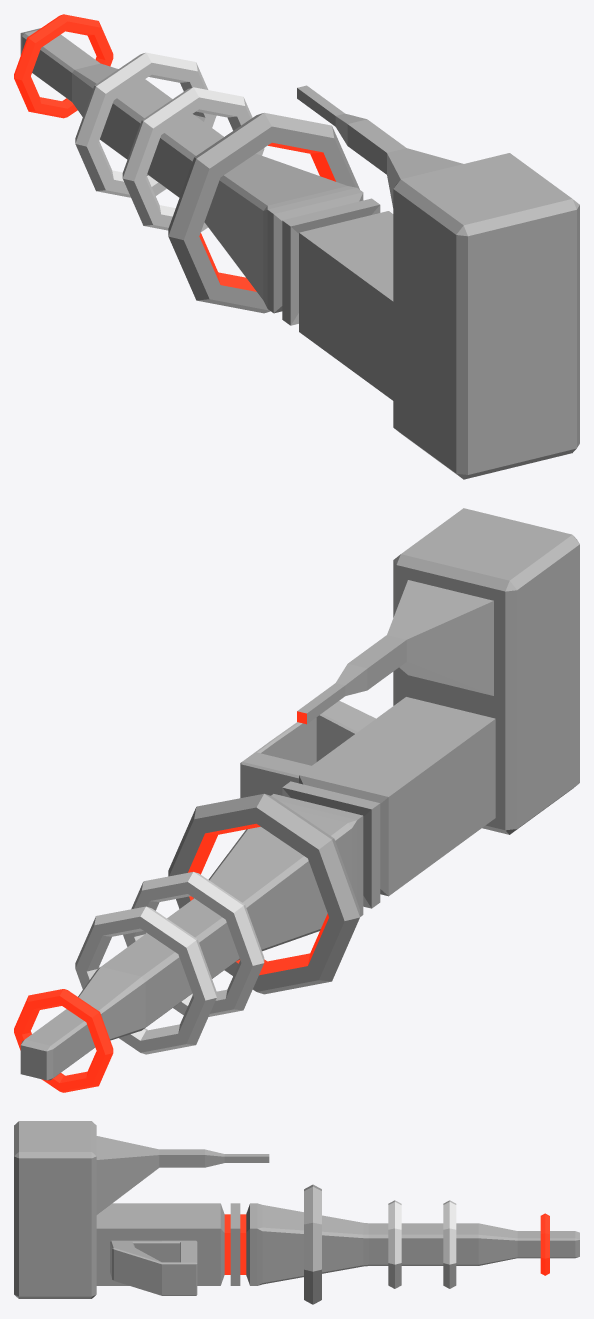
Rendered from ChaosGun.fbx.
The picture shows the model from 3 angles, top to bottom: view 1: azimuth 30°, elevation 25°; view 2: azimuth 150°, elevation 25°; view 3: azimuth 270°, elevation 25°; orthographic projection. The views are drawn at different scales.
Parts seen in each view (by area): view 1: Cube, Torus, Torus.002, Torus.001, Torus.003; view 2: Cube, Torus, Torus.002, Torus.001, Torus.003; view 3: Cube, Torus, Torus.001, Torus.002, Torus.003.
Part boxes in pixels (x1=…): Cube: x1=20, y1=28, x2=579, y2=479; Torus: x1=168, y1=112, x2=359, y2=313; Torus.002: x1=75, y1=52, x2=216, y2=197; Torus.001: x1=122, y1=87, x2=264, y2=231; Torus.003: x1=14, y1=14, x2=113, y2=118; Cube: x1=20, y1=508, x2=579, y2=1080; Torus: x1=168, y1=793, x2=359, y2=994; Torus.002: x1=75, y1=906, x2=216, y2=1054; Torus.001: x1=123, y1=872, x2=264, y2=1016; Torus.003: x1=14, y1=989, x2=113, y2=1092; Cube: x1=14, y1=1121, x2=579, y2=1298; Torus: x1=304, y1=1184, x2=321, y2=1304; Torus.001: x1=388, y1=1200, x2=401, y2=1288; Torus.002: x1=443, y1=1200, x2=456, y2=1288; Torus.003: x1=540, y1=1213, x2=549, y2=1275.
Bounding box in the file's own units: 356 × 444 × 1368.
